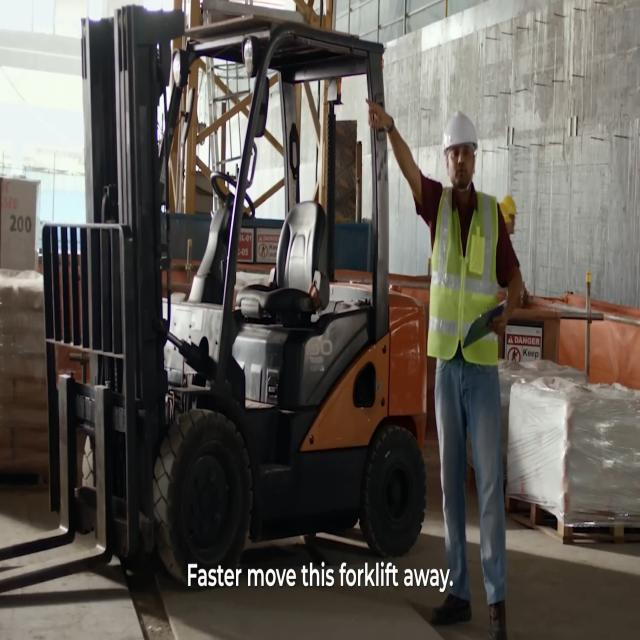Boots: (424, 590, 471, 628), (486, 593, 508, 638)
Helmet: (442, 110, 482, 154)
Vest: (426, 188, 502, 370)
